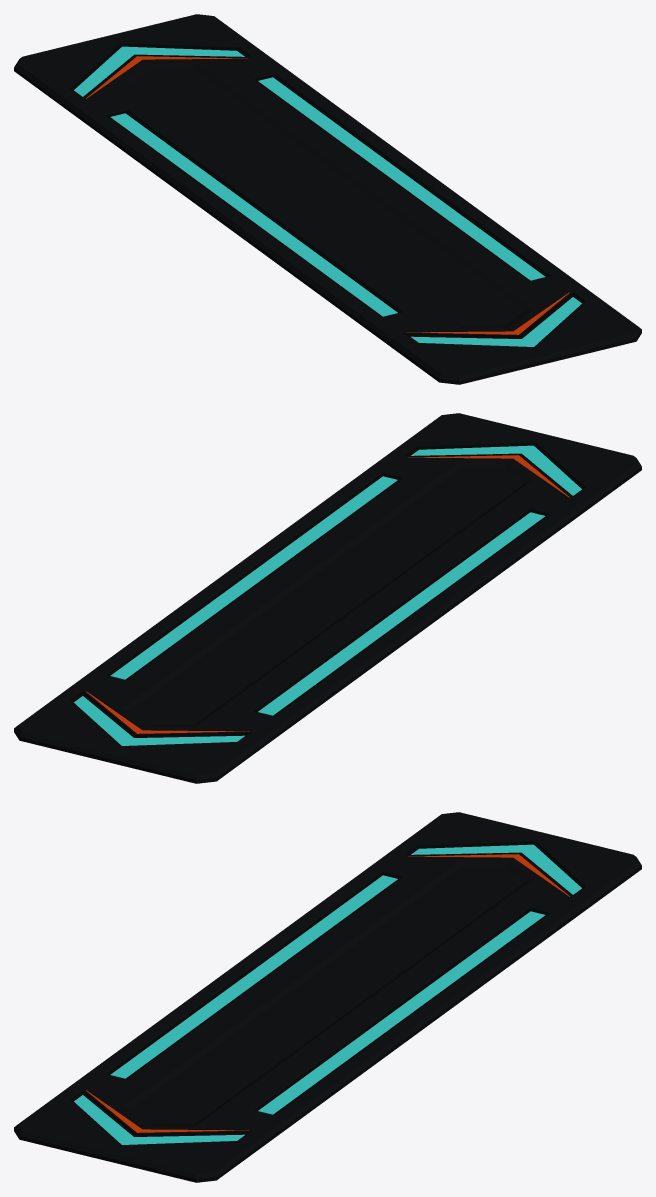
The model's file is SM_Floor_Marker_Rectangular.obj.
The picture shows the model from 3 angles, top to bottom: view 1: azimuth 30°, elevation 25°; view 2: azimuth 150°, elevation 25°; view 3: azimuth 330°, elevation 25°; orthographic projection.
Parts seen in each view (by area): view 1: SM_Floor_Marker_Rectangular; view 2: SM_Floor_Marker_Rectangular; view 3: SM_Floor_Marker_Rectangular.
Boxes of the visible parts, box(x1,y1,x2,y2) form: SM_Floor_Marker_Rectangular: box(14, 14, 641, 384); SM_Floor_Marker_Rectangular: box(14, 413, 641, 783); SM_Floor_Marker_Rectangular: box(14, 812, 641, 1182).
Size of the model in its own units: 0.1 by 0.00328 by 0.3762.
